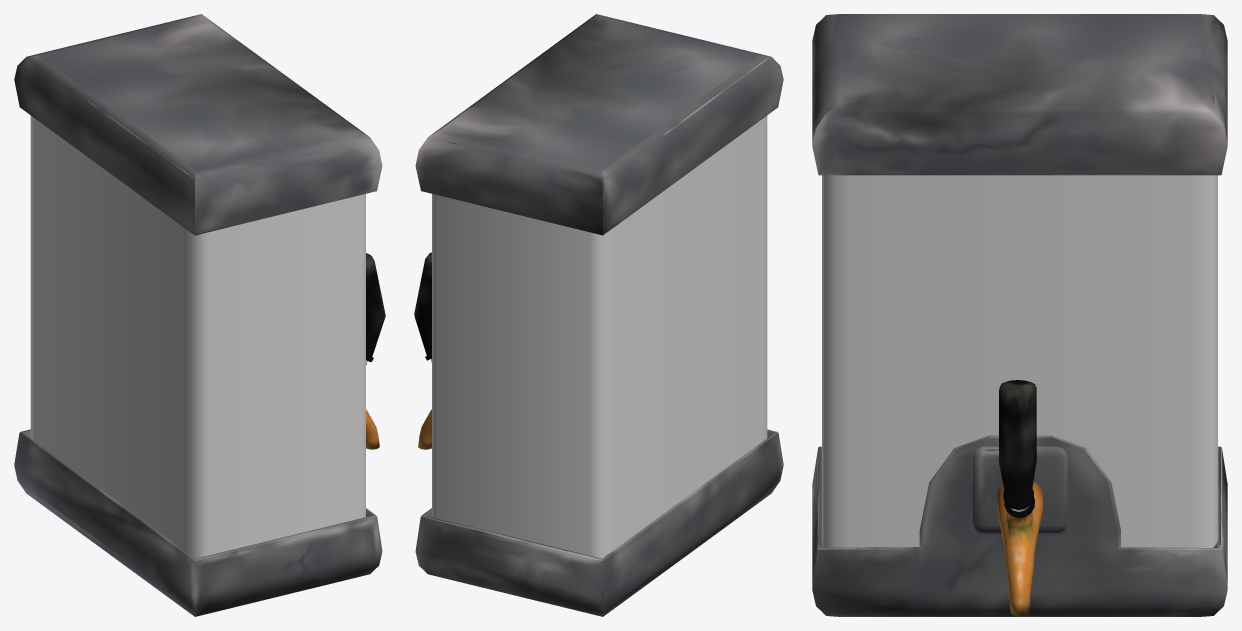
The model's file is GoobTest.fbx.
3 views of the same model, side by side, from view 1: azimuth 30°, elevation 25°; view 2: azimuth 150°, elevation 25°; view 3: azimuth 270°, elevation 25° (orthographic). The views are drawn at different scales.
Visible parts, largest first — view 1: Slob Glass, Slob maschine Metal, Tap Handle; view 2: Slob Glass, Slob maschine Metal, Tap Handle; view 3: Slob Glass, Slob maschine Metal, Tap Handle, Tap.
Boxes of the visible parts, <box> form: Slob Glass: <box>30,115,365,558</box>; Slob maschine Metal: <box>14,14,382,616</box>; Tap Handle: <box>366,253,385,361</box>; Slob Glass: <box>432,115,767,558</box>; Slob maschine Metal: <box>415,14,783,616</box>; Tap Handle: <box>414,252,431,360</box>; Slob Glass: <box>822,175,1217,547</box>; Slob maschine Metal: <box>812,14,1227,616</box>; Tap Handle: <box>999,380,1036,509</box>; Tap: <box>996,481,1043,616</box>.
Size of the model in its own units: 46.63 by 71.28 by 52.46.
5 materials, 4 textured.
